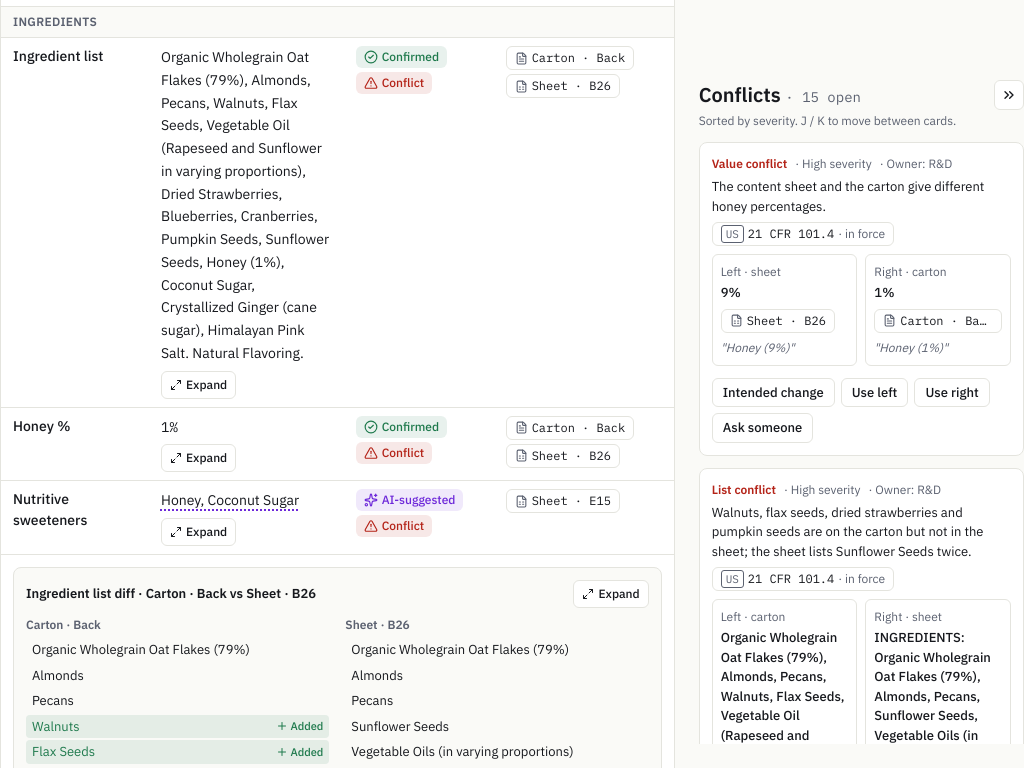
Scenario: ingredients Expand › opens the ingredient list full width and the Close button dismisses it
(page scrolled)
Click the button with aria-label "Expand Ingredient list" at (199, 384), box [161,370,236,398]
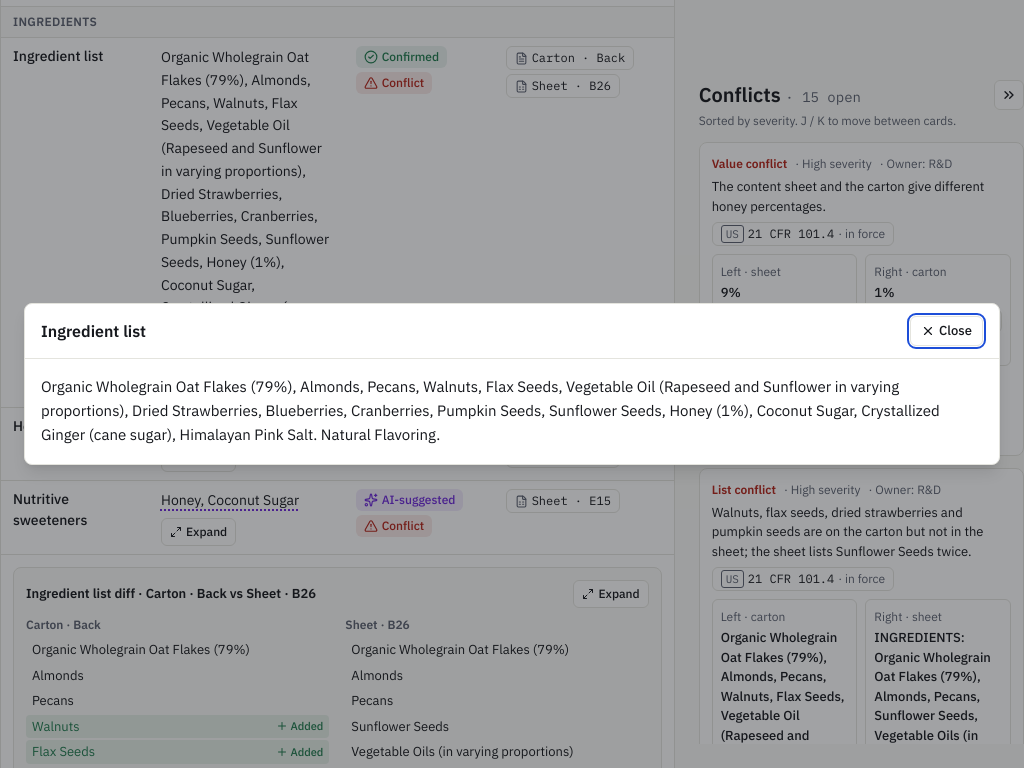
Expected: the dialog "Ingredient list" shows "Oat Flakes", [41,377,940,444]
Click the button "Close" at (947, 331), box [910,316,983,346]
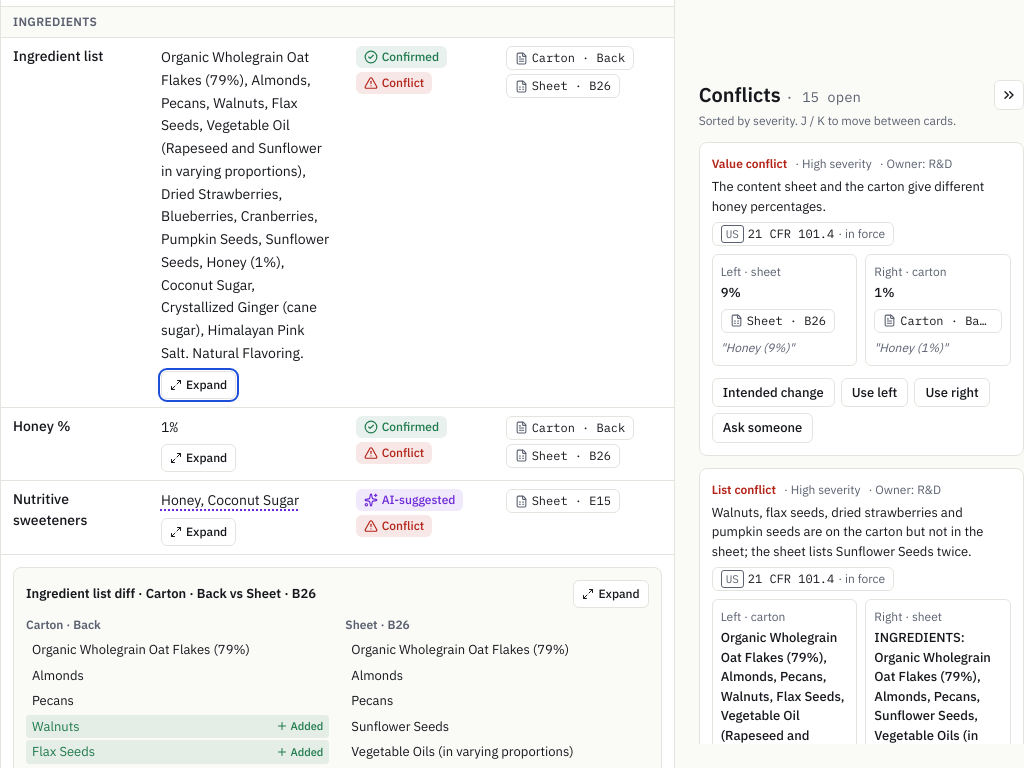
Expected: the dialog is gone
